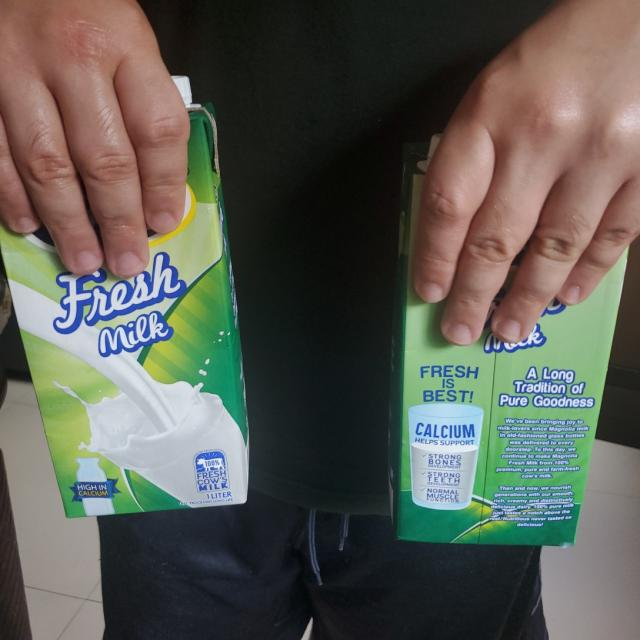milk: (2, 71, 252, 518), (386, 134, 626, 550)
